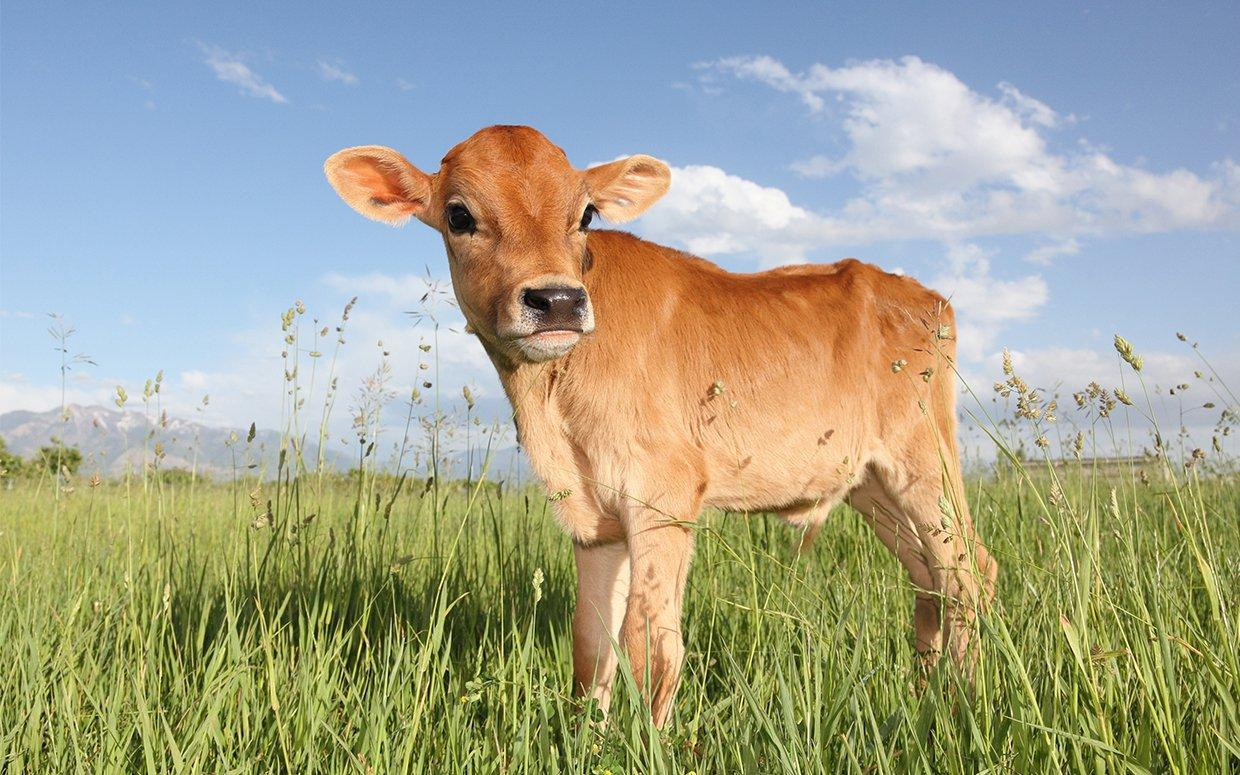muzzles: (492, 274, 601, 369)
